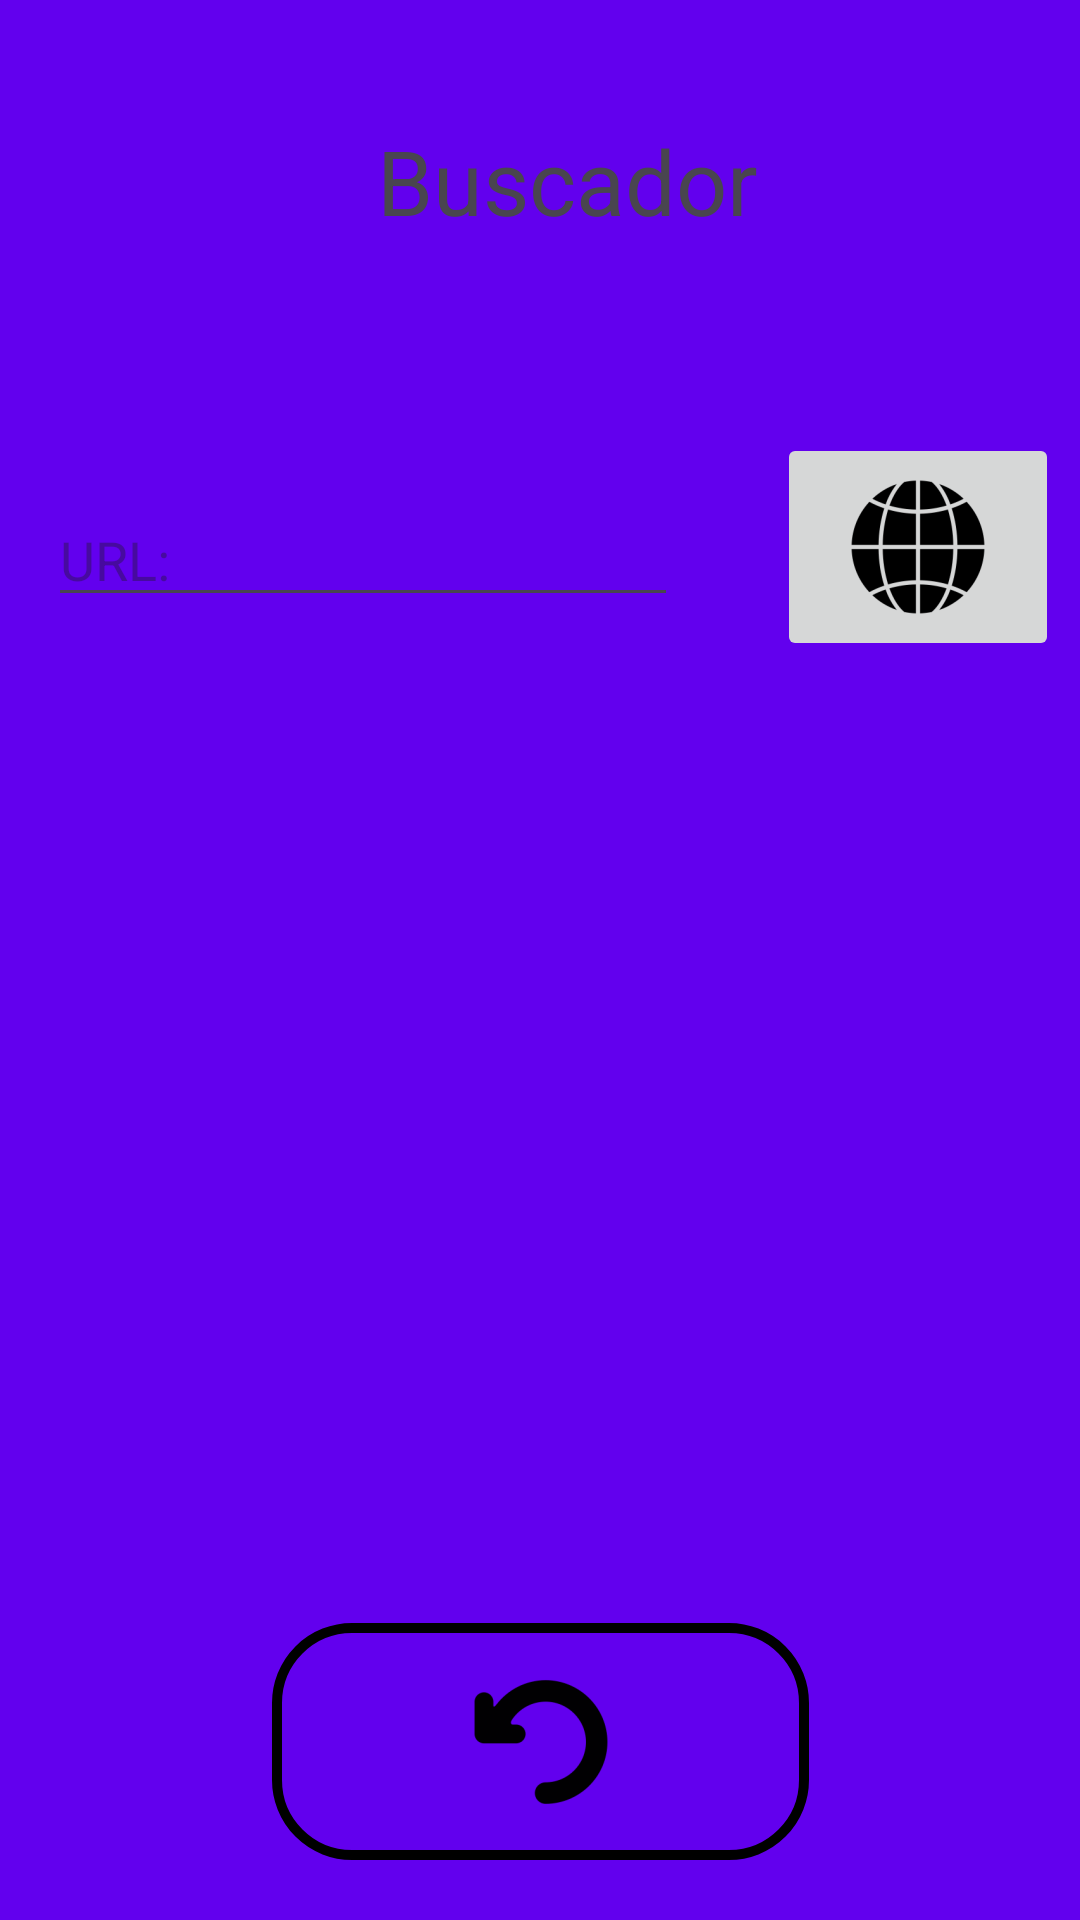

Where icons sit on this 1080x1920 app screen, as detection(x1, y1, x2, y2):
searchweb: detection(789, 451, 1047, 643)
